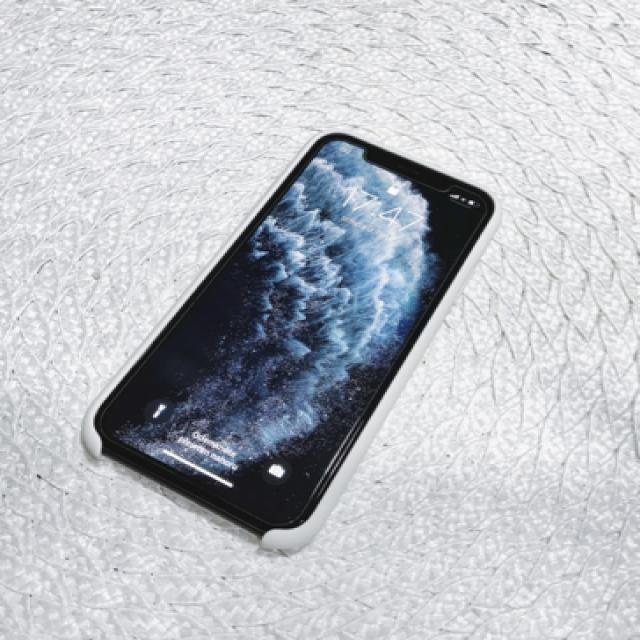cellphone: (79, 130, 501, 555)
